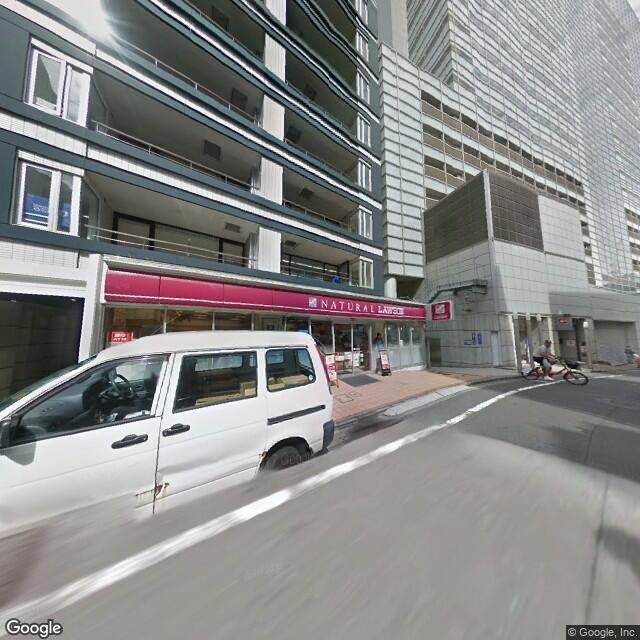lawson: (107, 264, 428, 322), (428, 295, 449, 322)
